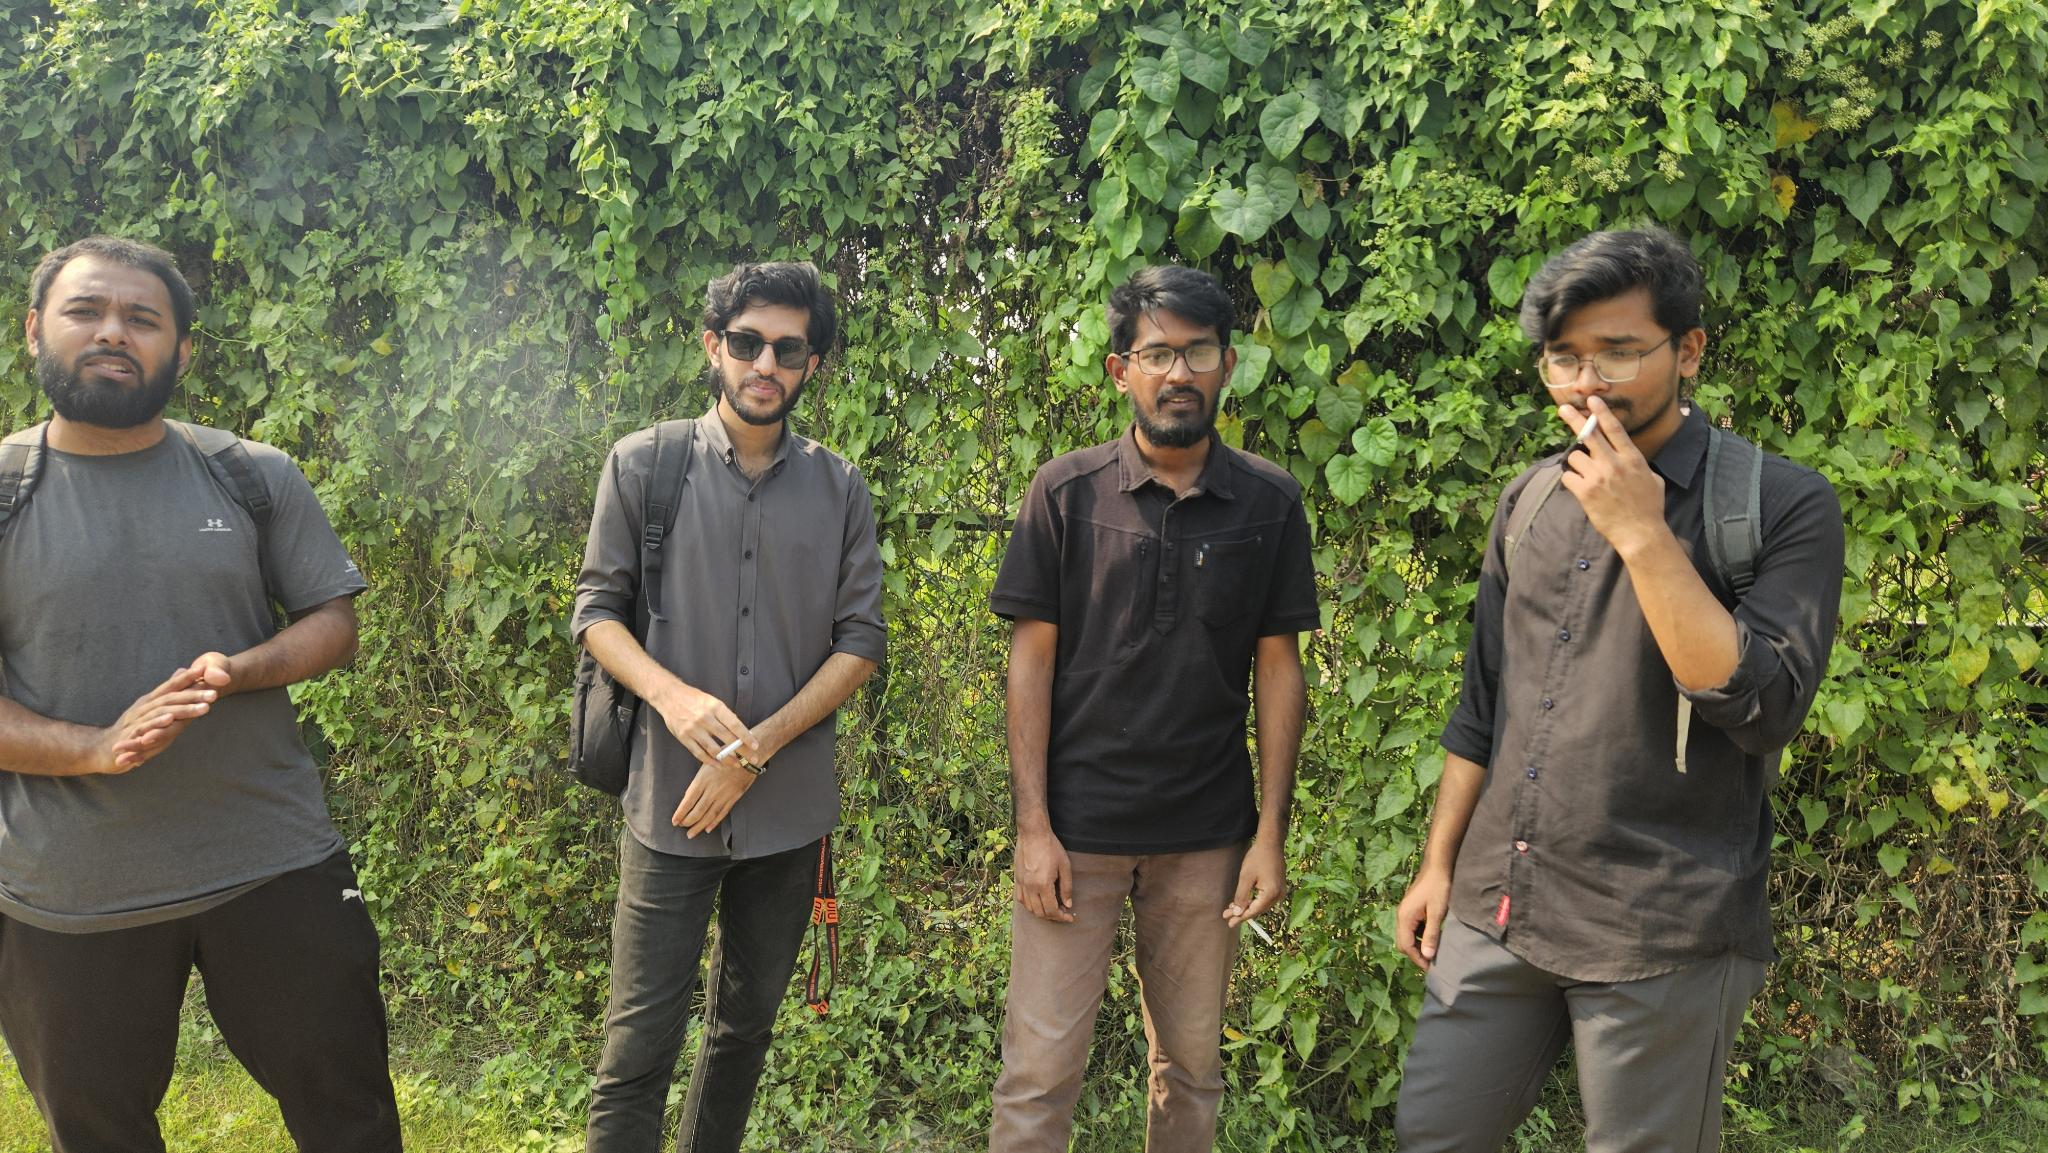cigarette: (1575, 412, 1599, 446), (1245, 918, 1273, 945), (716, 738, 744, 762)
nonSmoker: (0, 238, 404, 1153)
smoker: (1393, 229, 1845, 1153), (987, 266, 1322, 1153), (567, 262, 886, 1153)
